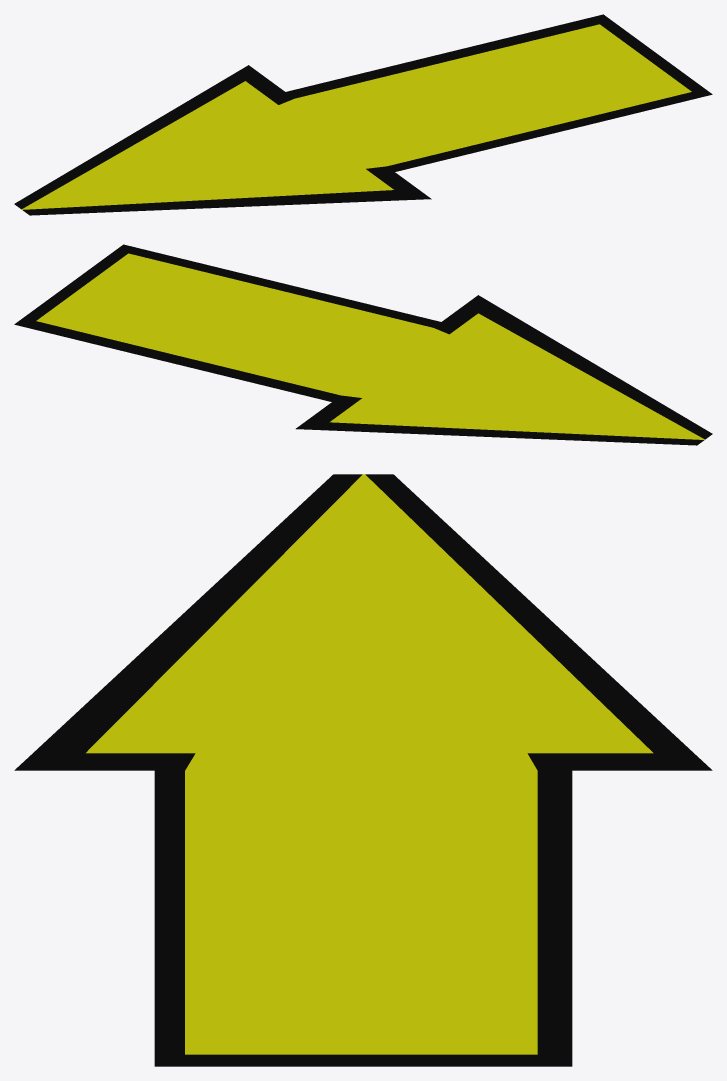
File: Arrow.fbx
3 views of the same model, one above another, from view 1: azimuth 30°, elevation 25°; view 2: azimuth 150°, elevation 25°; view 3: azimuth 270°, elevation 25° (orthographic). The views are drawn at different scales.
Parts seen in each view (by area): view 1: Plane; view 2: Plane; view 3: Plane.
Part boxes in pixels (bbox=[...]): Plane: bbox=[14, 14, 712, 215]; Plane: bbox=[14, 244, 712, 445]; Plane: bbox=[14, 474, 712, 1066].
Bounding box in the file's own units: 401 × 3.26e-05 × 200.
